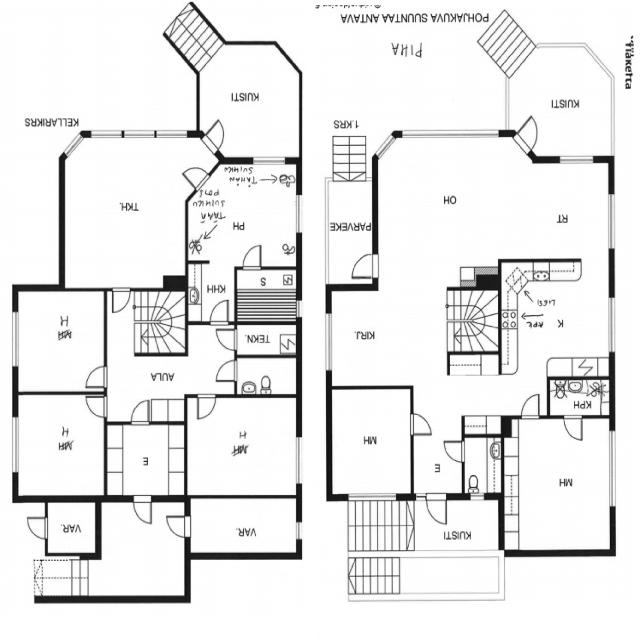door: (514, 113, 542, 154), (423, 490, 450, 529), (348, 251, 379, 282), (203, 117, 227, 155), (406, 409, 435, 440), (22, 512, 51, 542), (131, 493, 155, 528), (164, 512, 193, 540), (518, 391, 544, 422), (109, 284, 133, 316), (82, 363, 110, 390), (195, 391, 218, 423), (442, 436, 466, 466), (84, 392, 110, 419), (212, 357, 238, 384), (240, 242, 265, 270), (129, 396, 152, 426), (209, 298, 232, 327), (213, 326, 238, 352), (563, 413, 585, 442)
window: (85, 123, 192, 144), (396, 122, 504, 142), (342, 487, 404, 507), (179, 32, 221, 60), (606, 428, 619, 509), (8, 412, 22, 478), (322, 308, 335, 376), (604, 190, 618, 252), (8, 310, 22, 371), (606, 295, 618, 355), (555, 152, 599, 168), (293, 433, 305, 488), (61, 130, 84, 158), (293, 191, 305, 239), (250, 154, 289, 168), (378, 130, 397, 156), (293, 518, 305, 544), (467, 490, 488, 504), (295, 297, 305, 321)
zone: (373, 136, 533, 271), (62, 132, 190, 292), (502, 415, 615, 555), (326, 286, 476, 385), (498, 259, 614, 379), (187, 161, 300, 268), (186, 396, 300, 499), (197, 43, 300, 157), (14, 288, 108, 394), (510, 160, 611, 258), (15, 392, 106, 499), (330, 386, 413, 496), (189, 497, 299, 556), (105, 421, 186, 498), (233, 267, 300, 327), (46, 500, 98, 556), (188, 262, 235, 323), (234, 356, 300, 396), (547, 377, 613, 416), (232, 317, 298, 355), (463, 435, 503, 496), (205, 286, 233, 329)
